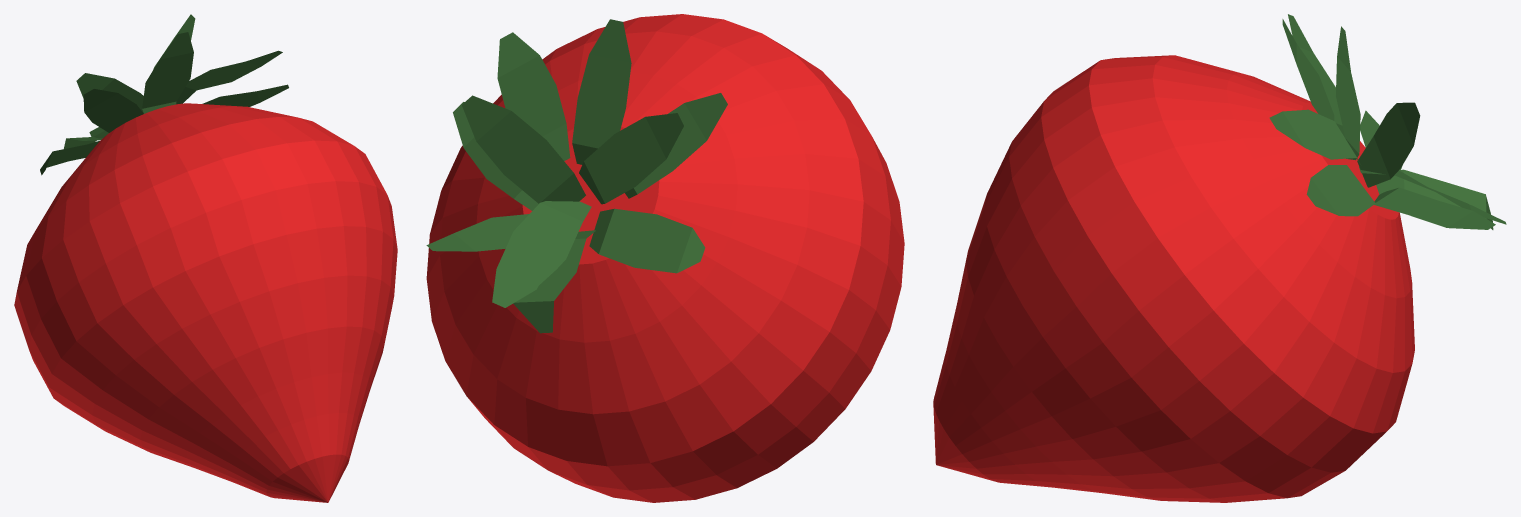
Rendered from strawberry.fbx.
3 renders of one model, left to right at view 1: azimuth 30°, elevation 25°; view 2: azimuth 150°, elevation 25°; view 3: azimuth 270°, elevation 25°, orthographic. The views are drawn at different scales.
Visible parts, largest first — view 1: Cone; view 2: Cone; view 3: Cone.
Part boxes in pixels (x1=…): Cone: x1=14, y1=14, x2=397, y2=502; Cone: x1=426, y1=14, x2=904, y2=502; Cone: x1=933, y1=14, x2=1506, y2=502.
Size of the model in its own units: 161 by 174 by 195.
